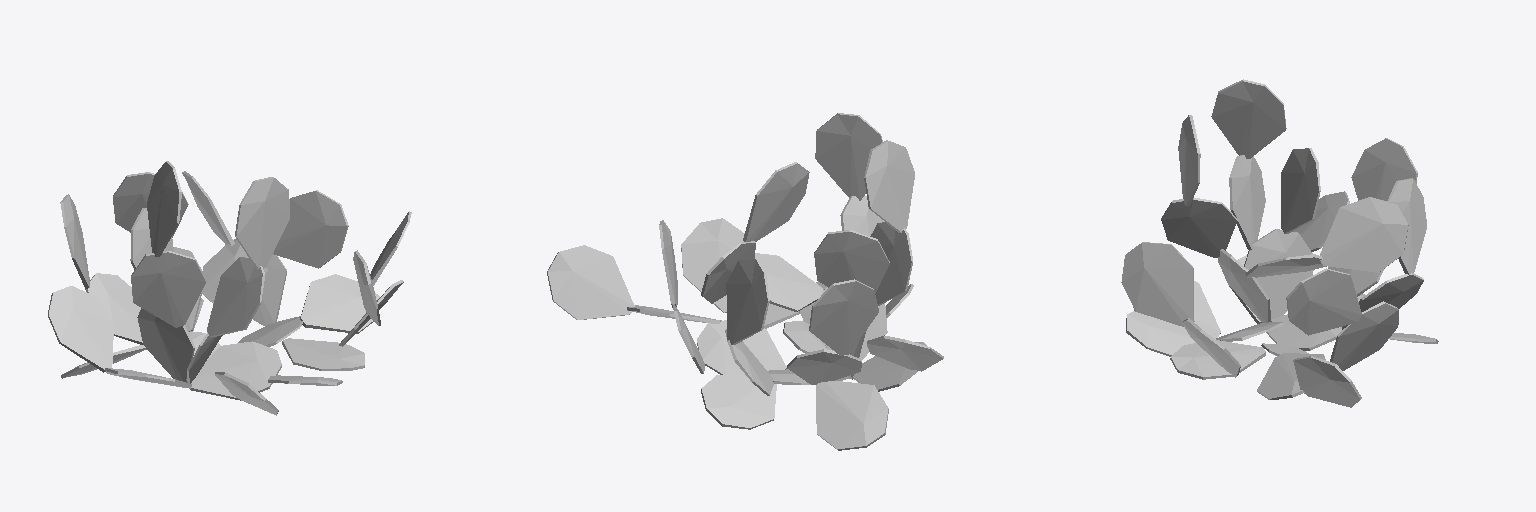
File: PricklyPearCactus_LOD0.obj
3 views of the same model, side by side, from view 1: azimuth 30°, elevation 25°; view 2: azimuth 150°, elevation 25°; view 3: azimuth 270°, elevation 25° (orthographic).
Parts seen in each view (by area): view 1: PricklyPearCactus_LOD0; view 2: PricklyPearCactus_LOD0; view 3: PricklyPearCactus_LOD0.
Part boxes in pixels (bbox=[...]): PricklyPearCactus_LOD0: bbox=[48, 161, 411, 415]; PricklyPearCactus_LOD0: bbox=[547, 113, 943, 450]; PricklyPearCactus_LOD0: bbox=[1121, 79, 1438, 407].
Size of the model in its own units: 174 by 114 by 129.